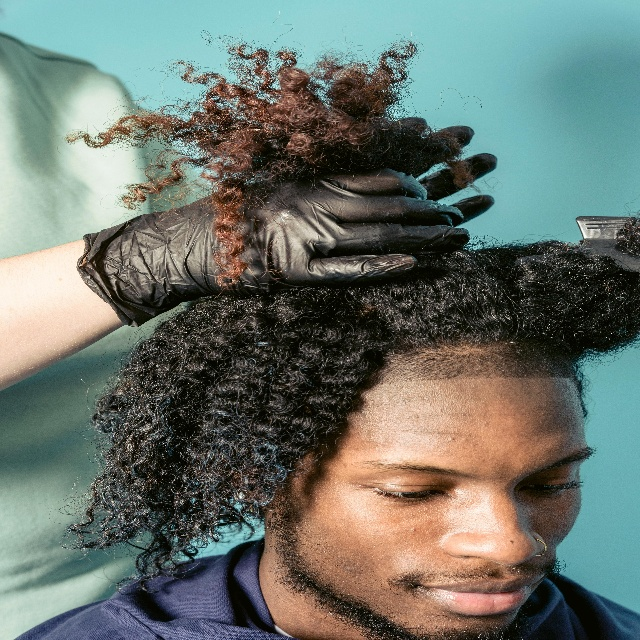Guantes: (76, 165, 470, 330), (390, 116, 499, 222)
